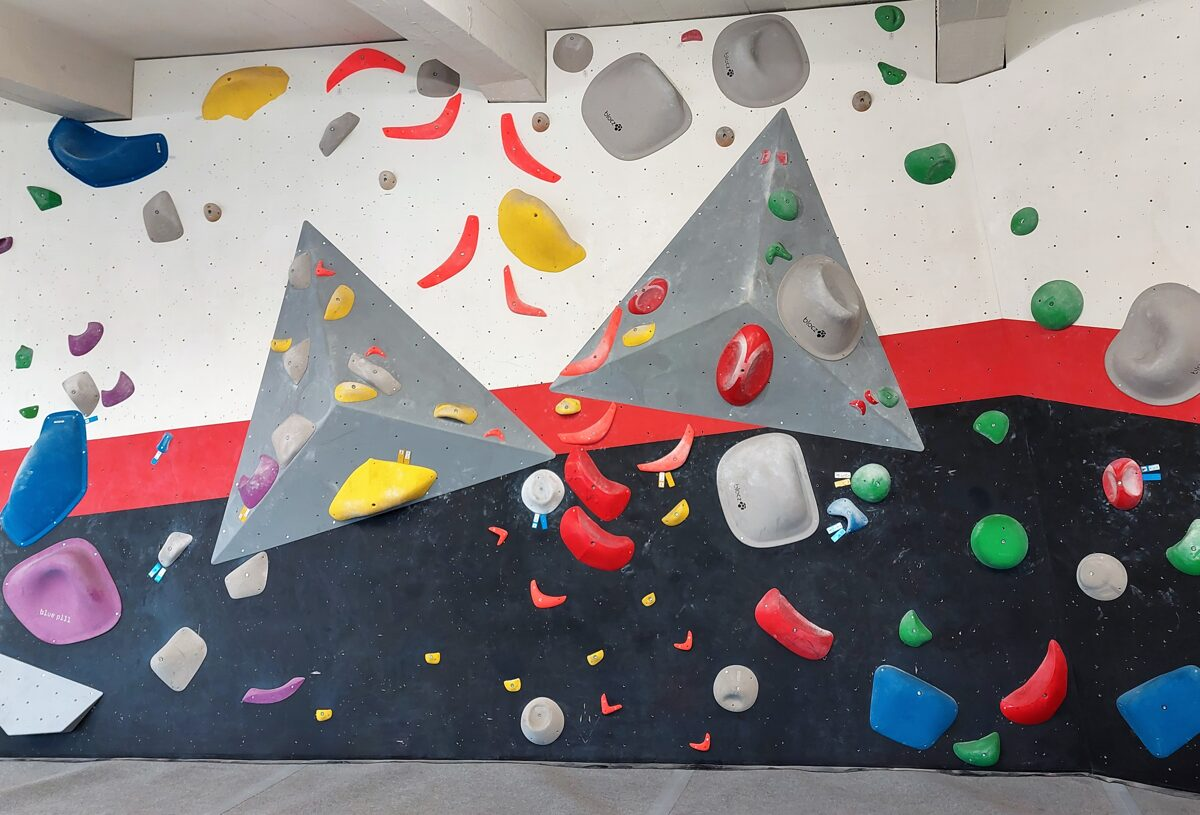hold: (4, 540, 119, 643), (581, 53, 691, 160), (716, 433, 819, 547), (0, 410, 86, 546), (1105, 283, 1199, 404), (778, 255, 865, 360), (712, 15, 809, 106), (48, 118, 167, 186), (1117, 665, 1199, 757), (871, 665, 957, 749), (499, 189, 585, 272), (329, 459, 436, 520), (1001, 640, 1067, 724), (755, 588, 833, 659), (559, 507, 634, 570), (716, 325, 773, 405), (202, 66, 288, 119), (566, 450, 629, 520), (418, 215, 478, 287), (562, 307, 622, 375), (501, 115, 560, 182), (151, 627, 206, 691), (383, 93, 461, 138), (327, 48, 404, 91), (970, 516, 1026, 568), (637, 424, 694, 472), (1031, 278, 1080, 327), (1076, 553, 1126, 599), (272, 413, 315, 466), (560, 403, 616, 443), (238, 455, 278, 508), (504, 265, 546, 315), (348, 353, 399, 394), (1102, 458, 1142, 509), (714, 666, 758, 712), (905, 143, 955, 183), (521, 469, 564, 515), (143, 191, 182, 241), (225, 552, 267, 597), (1166, 518, 1199, 575), (521, 696, 560, 740), (320, 112, 358, 155), (243, 677, 304, 703), (553, 33, 593, 72), (64, 371, 99, 415), (954, 732, 998, 767), (851, 463, 890, 502), (416, 60, 458, 96), (628, 278, 667, 313), (827, 498, 867, 530), (898, 610, 932, 646), (158, 532, 192, 566), (69, 321, 103, 355), (975, 410, 1009, 444), (284, 339, 310, 383), (102, 371, 134, 406), (324, 284, 353, 320), (768, 188, 799, 220), (530, 580, 566, 607), (335, 382, 377, 402), (435, 403, 477, 423), (289, 252, 312, 287), (1011, 206, 1038, 235), (27, 184, 57, 208), (623, 323, 655, 344), (875, 4, 902, 28), (878, 62, 906, 84), (663, 501, 688, 525), (765, 241, 792, 263), (555, 397, 580, 415), (601, 694, 622, 714), (878, 387, 898, 407), (531, 111, 549, 132), (689, 733, 710, 751), (488, 526, 507, 545), (715, 126, 733, 146), (16, 345, 32, 367), (379, 170, 396, 190), (204, 202, 220, 221), (854, 90, 870, 109), (315, 261, 335, 276), (676, 634, 692, 651), (587, 649, 604, 665), (271, 338, 291, 351), (503, 677, 520, 692), (484, 427, 505, 439), (681, 29, 702, 41), (20, 405, 38, 418), (314, 709, 332, 721), (366, 346, 385, 357), (849, 400, 865, 413), (0, 235, 12, 251), (424, 652, 440, 664), (760, 149, 771, 164), (641, 594, 655, 605), (865, 391, 877, 403), (777, 151, 785, 163), (873, 59, 873, 59)
volume: (546, 106, 926, 453), (208, 219, 558, 569), (0, 654, 102, 734)
